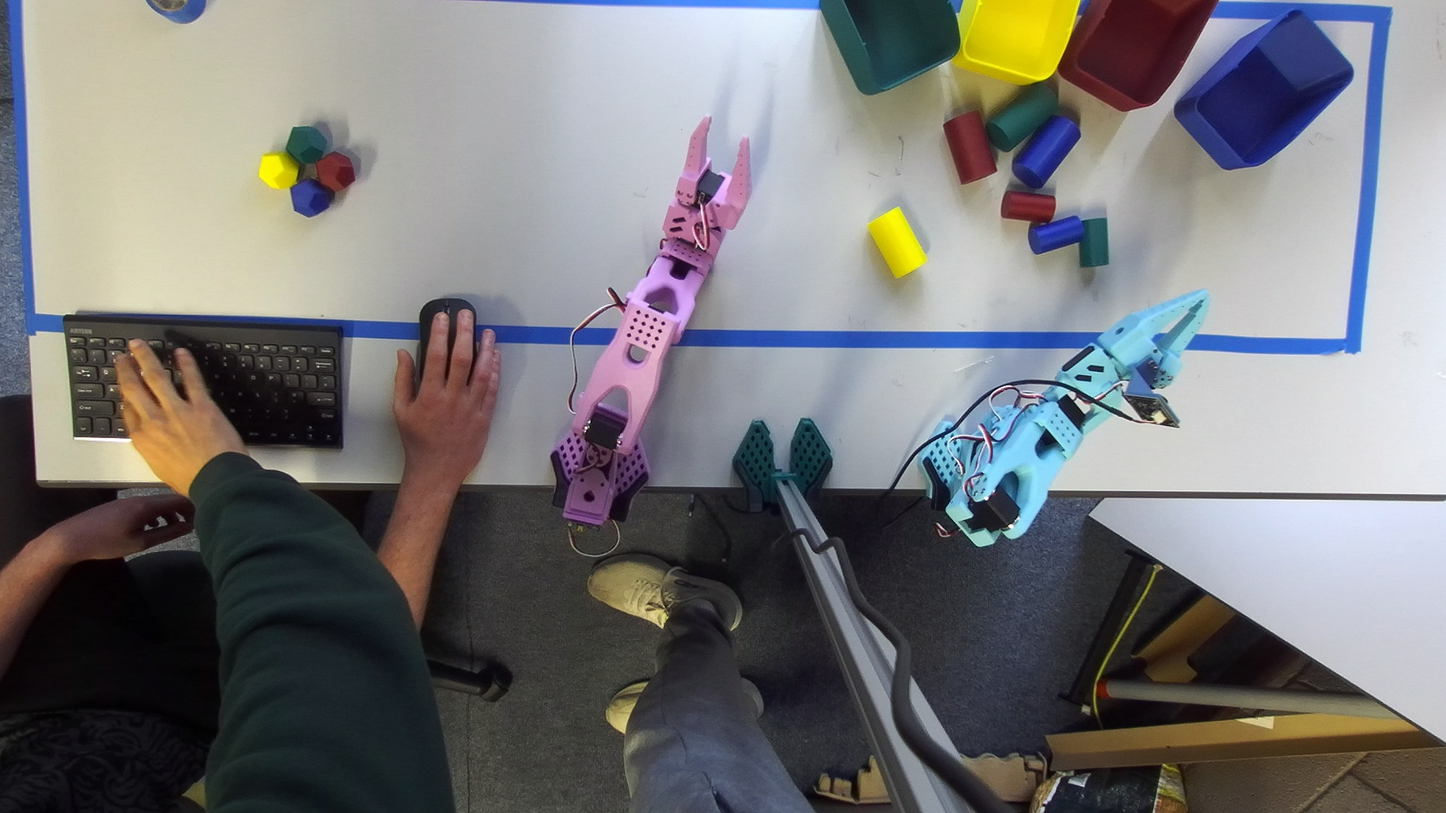bin: (1174, 9, 1353, 169), (1058, 0, 1216, 111), (819, 0, 959, 94), (953, 0, 1078, 84)
cylinder: (984, 77, 1057, 151), (1011, 116, 1080, 189), (868, 207, 926, 277), (943, 111, 996, 184), (1027, 215, 1084, 262), (1000, 190, 1056, 223), (1078, 218, 1109, 266)
gripper: (661, 116, 750, 269), (1097, 289, 1208, 389)
